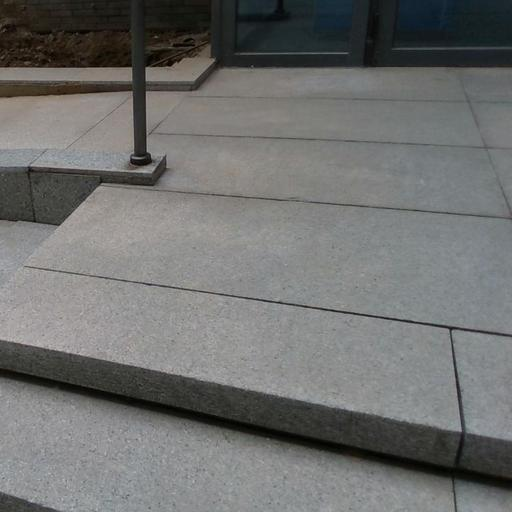stairs: (0, 186, 509, 511), (0, 220, 55, 286)
